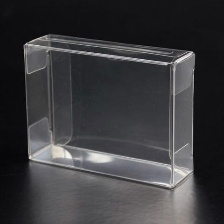plastic_box: (17, 27, 204, 196)
